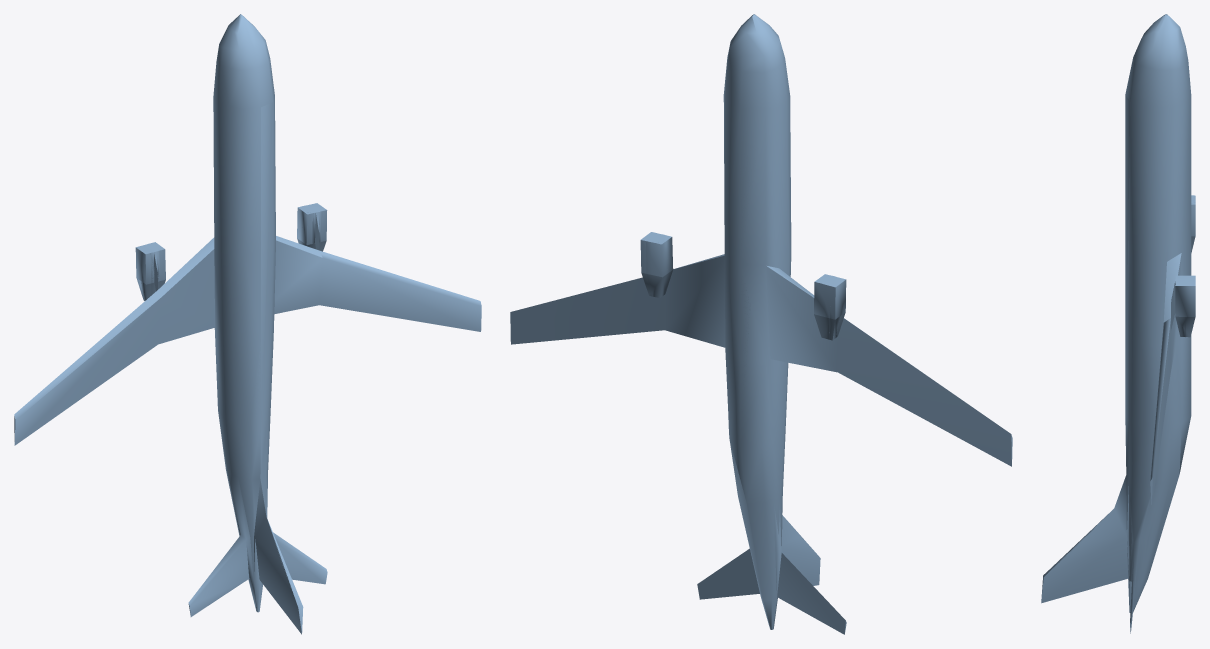
Rendered from boeing_767.glb.
The picture shows the model from 3 angles, left to right: view 1: azimuth 30°, elevation 25°; view 2: azimuth 150°, elevation 25°; view 3: azimuth 270°, elevation 25°; orthographic projection. The views are drawn at different scales.
Parts seen in each view (by area): view 1: db_767_newLOD_LOD child0_body_pl1_Geometry_0.001, db_767_newLOD_LOD child0_lwing2_p13969_Geometry_0.001, db_767_newLOD_LOD child0_wing1_p13684_Geometry_0.001, db_767_newLOD_LOD child0_rwing2_p13926_Geometry_0.001, db_767_newLOD_LOD child0_wing2_p13720_Geometry_0.001, db_767_newLOD_LOD child0_tail_p13680_Geometry_0.001, db_767_newLOD_LOD child0_body2_p14183_Geometry_0.001, db_767_newLOD_LOD child0_stab2_p13727_Geometry_0.001, db_767_newLOD_LOD child0_body3_p14186_Geometry_0.001, db_767_newLOD_LOD child0_stab1_p13688_Geometry_0.001, db_767_newLOD_LOD child0_leng3_p14356_Geometry_0.001, db_767_newLOD_LOD child0_reng3_p14315_Geometry_0.001; view 2: db_767_newLOD_LOD child0_body_pl1_Geometry_0.001, db_767_newLOD_LOD child0_lwing2_p13969_Geometry_0.001, db_767_newLOD_LOD child0_wing1_p13684_Geometry_0.001, db_767_newLOD_LOD child0_body2_p14183_Geometry_0.001, db_767_newLOD_LOD child0_rwing2_p13926_Geometry_0.001, db_767_newLOD_LOD child0_stab2_p13727_Geometry_0.001, db_767_newLOD_LOD child0_stab1_p13688_Geometry_0.001, db_767_newLOD_LOD child0_wing2_p13720_Geometry_0.001, db_767_newLOD_LOD child0_tail_p13680_Geometry_0.001, db_767_newLOD_LOD child0_reng3_p14315_Geometry_0.001, db_767_newLOD_LOD child0_leng3_p14356_Geometry_0.001; view 3: db_767_newLOD_LOD child0_body_pl1_Geometry_0.001, db_767_newLOD_LOD child0_body2_p14183_Geometry_0.001, db_767_newLOD_LOD child0_tail2_p14012_Geometry_0.001, db_767_newLOD_LOD child0_tail_p13680_Geometry_0.001, db_767_newLOD_LOD child0_wing1_p13684_Geometry_0.001, db_767_newLOD_LOD child0_body3_p14186_Geometry_0.001, db_767_newLOD_LOD child0_reng3_p14315_Geometry_0.001, db_767_newLOD_LOD child0_rwing2_p13926_Geometry_0.001, db_767_newLOD_LOD child0_rexh3_p14329_Geometry_0.001, db_767_newLOD_LOD child0_rstab3_p14311_Geometry_0.001.
Boxes of the visible parts, x1,y1,x2,y2 form: db_767_newLOD_LOD child0_body_pl1_Geometry_0.001: [213, 14, 275, 612]; db_767_newLOD_LOD child0_lwing2_p13969_Geometry_0.001: [14, 237, 214, 445]; db_767_newLOD_LOD child0_wing1_p13684_Geometry_0.001: [293, 244, 481, 331]; db_767_newLOD_LOD child0_rwing2_p13926_Geometry_0.001: [274, 236, 322, 314]; db_767_newLOD_LOD child0_wing2_p13720_Geometry_0.001: [14, 249, 214, 441]; db_767_newLOD_LOD child0_tail_p13680_Geometry_0.001: [255, 479, 303, 634]; db_767_newLOD_LOD child0_body2_p14183_Geometry_0.001: [216, 44, 270, 579]; db_767_newLOD_LOD child0_stab2_p13727_Geometry_0.001: [188, 535, 249, 616]; db_767_newLOD_LOD child0_body3_p14186_Geometry_0.001: [261, 102, 272, 415]; db_767_newLOD_LOD child0_stab1_p13688_Geometry_0.001: [276, 540, 327, 584]; db_767_newLOD_LOD child0_leng3_p14356_Geometry_0.001: [135, 242, 165, 284]; db_767_newLOD_LOD child0_reng3_p14315_Geometry_0.001: [297, 203, 327, 244]; db_767_newLOD_LOD child0_body_pl1_Geometry_0.001: [723, 14, 791, 629]; db_767_newLOD_LOD child0_lwing2_p13969_Geometry_0.001: [766, 266, 1011, 466]; db_767_newLOD_LOD child0_wing1_p13684_Geometry_0.001: [510, 277, 664, 344]; db_767_newLOD_LOD child0_body2_p14183_Geometry_0.001: [725, 46, 782, 600]; db_767_newLOD_LOD child0_rwing2_p13926_Geometry_0.001: [664, 254, 725, 347]; db_767_newLOD_LOD child0_stab2_p13727_Geometry_0.001: [777, 553, 846, 634]; db_767_newLOD_LOD child0_stab1_p13688_Geometry_0.001: [697, 548, 759, 599]; db_767_newLOD_LOD child0_wing2_p13720_Geometry_0.001: [767, 266, 1012, 459]; db_767_newLOD_LOD child0_tail_p13680_Geometry_0.001: [781, 515, 820, 585]; db_767_newLOD_LOD child0_reng3_p14315_Geometry_0.001: [640, 232, 673, 277]; db_767_newLOD_LOD child0_leng3_p14356_Geometry_0.001: [814, 274, 846, 319]; db_767_newLOD_LOD child0_body_pl1_Geometry_0.001: [1125, 14, 1191, 612]; db_767_newLOD_LOD child0_body2_p14183_Geometry_0.001: [1129, 14, 1191, 580]; db_767_newLOD_LOD child0_tail2_p14012_Geometry_0.001: [1041, 511, 1127, 603]; db_767_newLOD_LOD child0_tail_p13680_Geometry_0.001: [1041, 475, 1126, 599]; db_767_newLOD_LOD child0_wing1_p13684_Geometry_0.001: [1150, 264, 1170, 507]; db_767_newLOD_LOD child0_body3_p14186_Geometry_0.001: [1125, 95, 1130, 418]; db_767_newLOD_LOD child0_reng3_p14315_Geometry_0.001: [1175, 275, 1195, 316]; db_767_newLOD_LOD child0_rwing2_p13926_Geometry_0.001: [1164, 253, 1181, 372]; db_767_newLOD_LOD child0_rexh3_p14329_Geometry_0.001: [1175, 316, 1195, 337]; db_767_newLOD_LOD child0_rstab3_p14311_Geometry_0.001: [1132, 540, 1139, 616].
Bounding box in the file's own units: 47.34 × 56.73 × 13.29.
